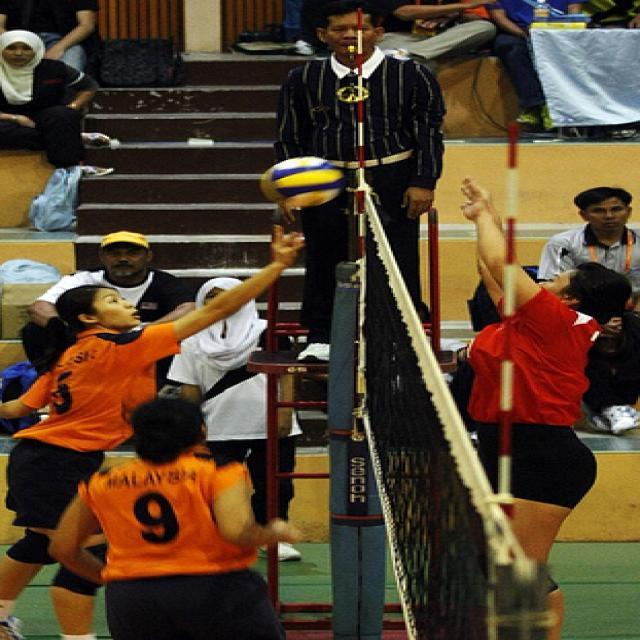volleyball: (262, 157, 343, 210)
